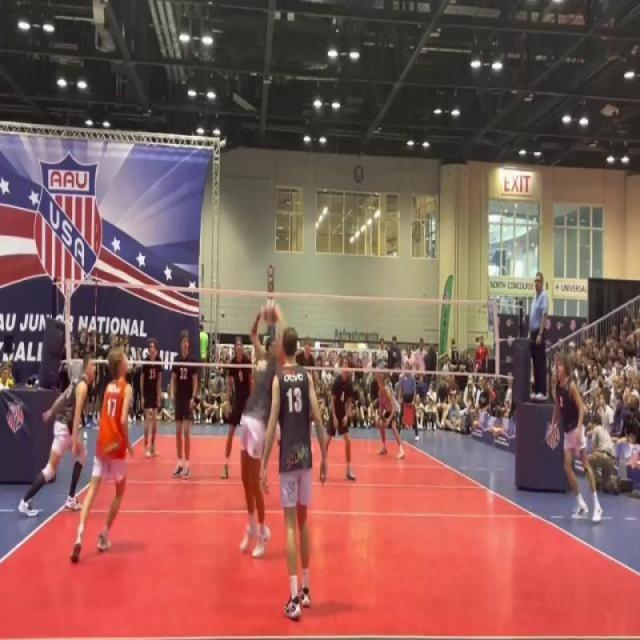volleyball: (258, 300, 282, 327)
